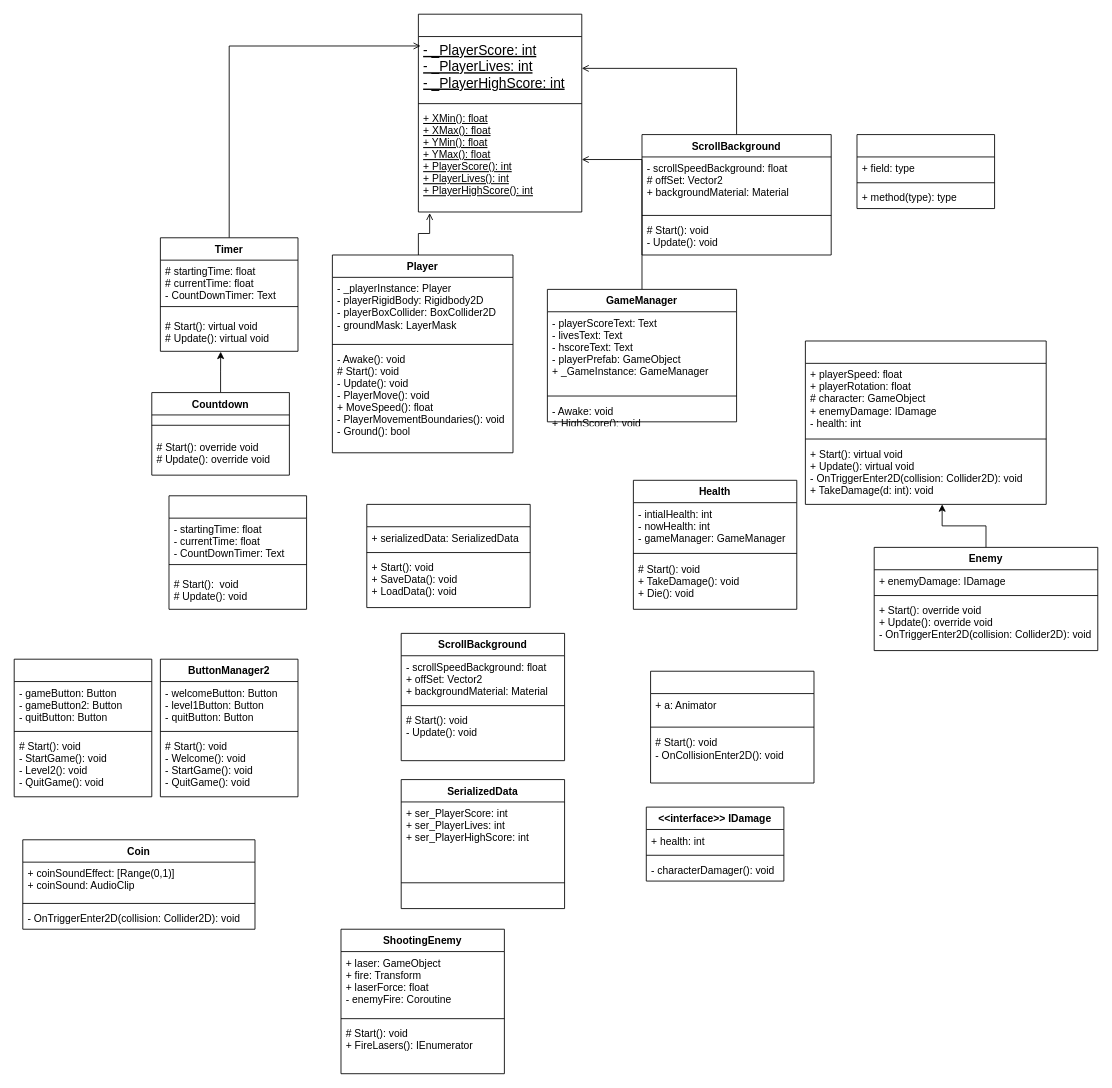
Some shapes in this 1112 by 1088 pixel diagram are drawn without their labels. Here are the shapes that lost their labels. From the top down, the box of each, then its label:
(418, 13, 582, 212): GameData
(856, 134, 995, 209): EnemyDamage
(805, 340, 1046, 504): ConstantEnemy
(168, 495, 307, 609): Countdown2
(366, 504, 530, 608): SaveLoadManager
(13, 658, 152, 797): ButtonManager
(650, 670, 814, 783): MovingPlayerAnimation
